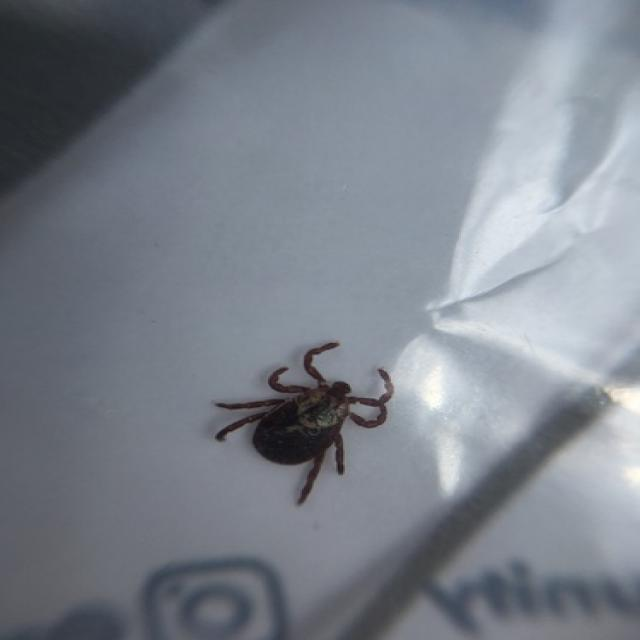Dermacentor Reticulatus-F: (215, 343, 396, 507)
